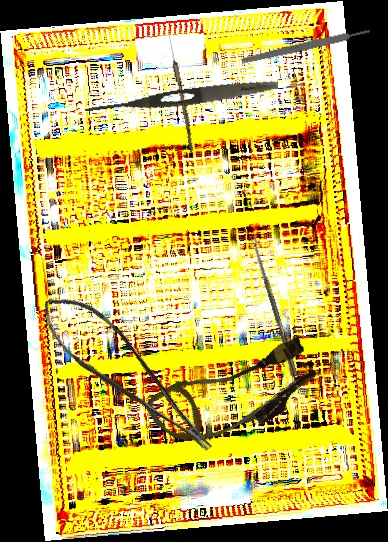Cannula: (142, 318, 327, 471)
Dressing Forceps: (83, 75, 280, 121)
Micro Scissor: (30, 276, 219, 480)
Scalpel Handle: (240, 27, 372, 65)
Surgical Spoon: (250, 234, 299, 378), (164, 30, 197, 152)
